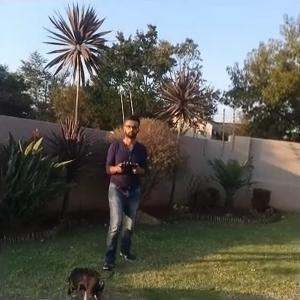follow: (98, 110, 150, 274)
null: (62, 260, 117, 298)
